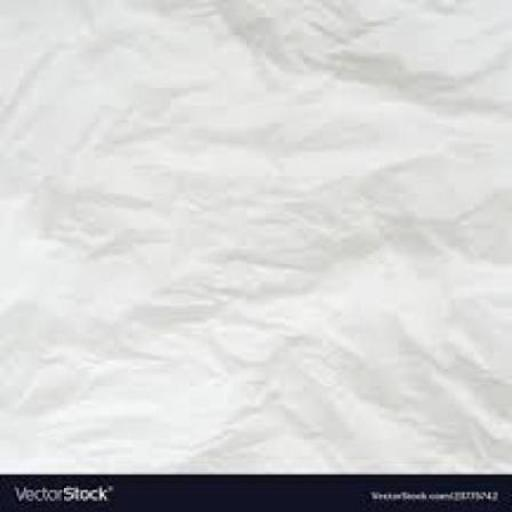paper: (4, 0, 508, 471)
